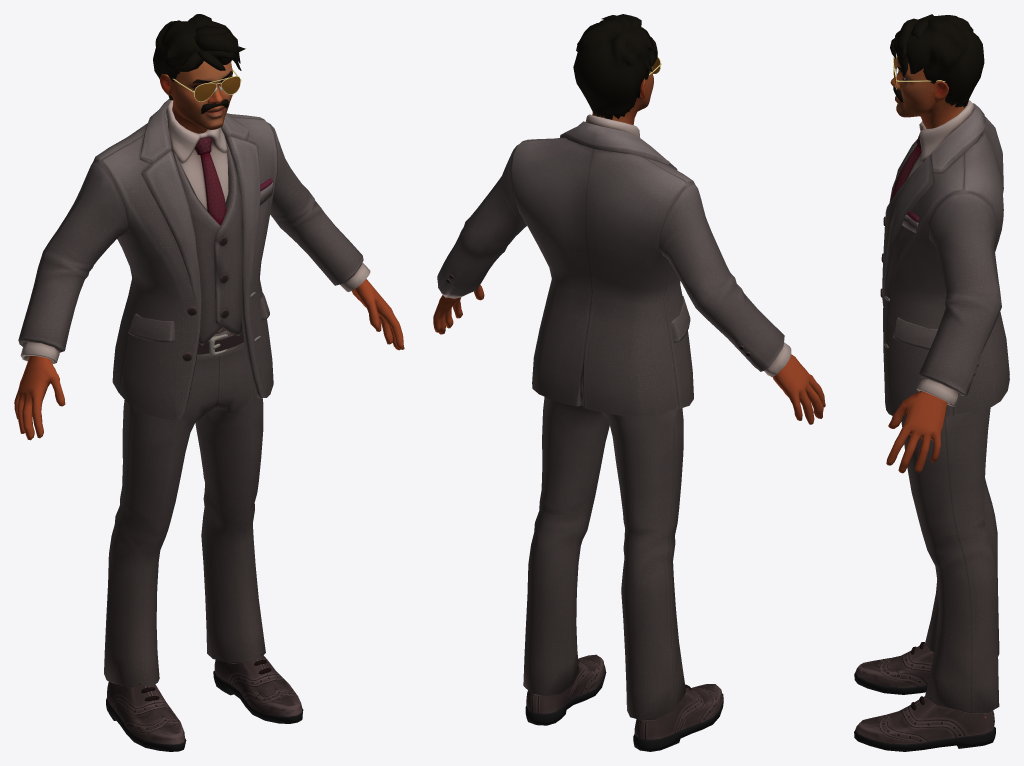
File: Sharad Singhania.fbx
The picture shows the model from 3 angles, left to right: view 1: azimuth 30°, elevation 25°; view 2: azimuth 150°, elevation 25°; view 3: azimuth 270°, elevation 25°; orthographic projection.
Parts seen in each view (by area): view 1: node_604e86e9_20d4_4284_b515_5f0e99f59c01_mesh0, node_6da88f54_6999_4037_8f0c_4d46c09575e6_mesh0, node_3a101d33_9dbc_43c9_bf80_9a4d972cb97c_mesh0, node_2b60ca4f_4df6_4ce6_b218_5db87587eceb_mesh0, node_016aac1a_ee28_4c11_8f49_bb0a09320adf_mesh0, node_933b2b48_8d36_4404_87f3_3bf44455fce8_mesh0, node_43752227_a311_4610_be54_30daa3ea38b6_mesh0; view 2: node_604e86e9_20d4_4284_b515_5f0e99f59c01_mesh0, node_6da88f54_6999_4037_8f0c_4d46c09575e6_mesh0, node_2b60ca4f_4df6_4ce6_b218_5db87587eceb_mesh0, node_3a101d33_9dbc_43c9_bf80_9a4d972cb97c_mesh0, node_016aac1a_ee28_4c11_8f49_bb0a09320adf_mesh0, node_933b2b48_8d36_4404_87f3_3bf44455fce8_mesh0; view 3: node_604e86e9_20d4_4284_b515_5f0e99f59c01_mesh0, node_6da88f54_6999_4037_8f0c_4d46c09575e6_mesh0, node_3a101d33_9dbc_43c9_bf80_9a4d972cb97c_mesh0, node_2b60ca4f_4df6_4ce6_b218_5db87587eceb_mesh0, node_016aac1a_ee28_4c11_8f49_bb0a09320adf_mesh0, node_933b2b48_8d36_4404_87f3_3bf44455fce8_mesh0.
Part boxes in pixels (x1=…): node_604e86e9_20d4_4284_b515_5f0e99f59c01_mesh0: x1=18, y1=99, x2=370, y2=420; node_6da88f54_6999_4037_8f0c_4d46c09575e6_mesh0: x1=104, y1=330, x2=265, y2=687; node_3a101d33_9dbc_43c9_bf80_9a4d972cb97c_mesh0: x1=106, y1=654, x2=303, y2=751; node_2b60ca4f_4df6_4ce6_b218_5db87587eceb_mesh0: x1=153, y1=14, x2=245, y2=100; node_016aac1a_ee28_4c11_8f49_bb0a09320adf_mesh0: x1=14, y1=279, x2=404, y2=440; node_933b2b48_8d36_4404_87f3_3bf44455fce8_mesh0: x1=159, y1=61, x2=232, y2=133; node_43752227_a311_4610_be54_30daa3ea38b6_mesh0: x1=167, y1=69, x2=241, y2=101; node_604e86e9_20d4_4284_b515_5f0e99f59c01_mesh0: x1=437, y1=114, x2=791, y2=416; node_6da88f54_6999_4037_8f0c_4d46c09575e6_mesh0: x1=523, y1=397, x2=685, y2=721; node_2b60ca4f_4df6_4ce6_b218_5db87587eceb_mesh0: x1=573, y1=14, x2=657, y2=119; node_3a101d33_9dbc_43c9_bf80_9a4d972cb97c_mesh0: x1=525, y1=654, x2=723, y2=751; node_016aac1a_ee28_4c11_8f49_bb0a09320adf_mesh0: x1=433, y1=285, x2=825, y2=723; node_933b2b48_8d36_4404_87f3_3bf44455fce8_mesh0: x1=592, y1=66, x2=653, y2=125; node_604e86e9_20d4_4284_b515_5f0e99f59c01_mesh0: x1=880, y1=100, x2=1009, y2=419; node_6da88f54_6999_4037_8f0c_4d46c09575e6_mesh0: x1=901, y1=407, x2=999, y2=713; node_3a101d33_9dbc_43c9_bf80_9a4d972cb97c_mesh0: x1=854, y1=642, x2=995, y2=751; node_2b60ca4f_4df6_4ce6_b218_5db87587eceb_mesh0: x1=890, y1=14, x2=984, y2=107; node_016aac1a_ee28_4c11_8f49_bb0a09320adf_mesh0: x1=886, y1=391, x2=986, y2=717; node_933b2b48_8d36_4404_87f3_3bf44455fce8_mesh0: x1=890, y1=57, x2=964, y2=128.
Size of the model in its own units: 106 by 185 by 37.59.
Materials: 10 (10 with a texture image).
